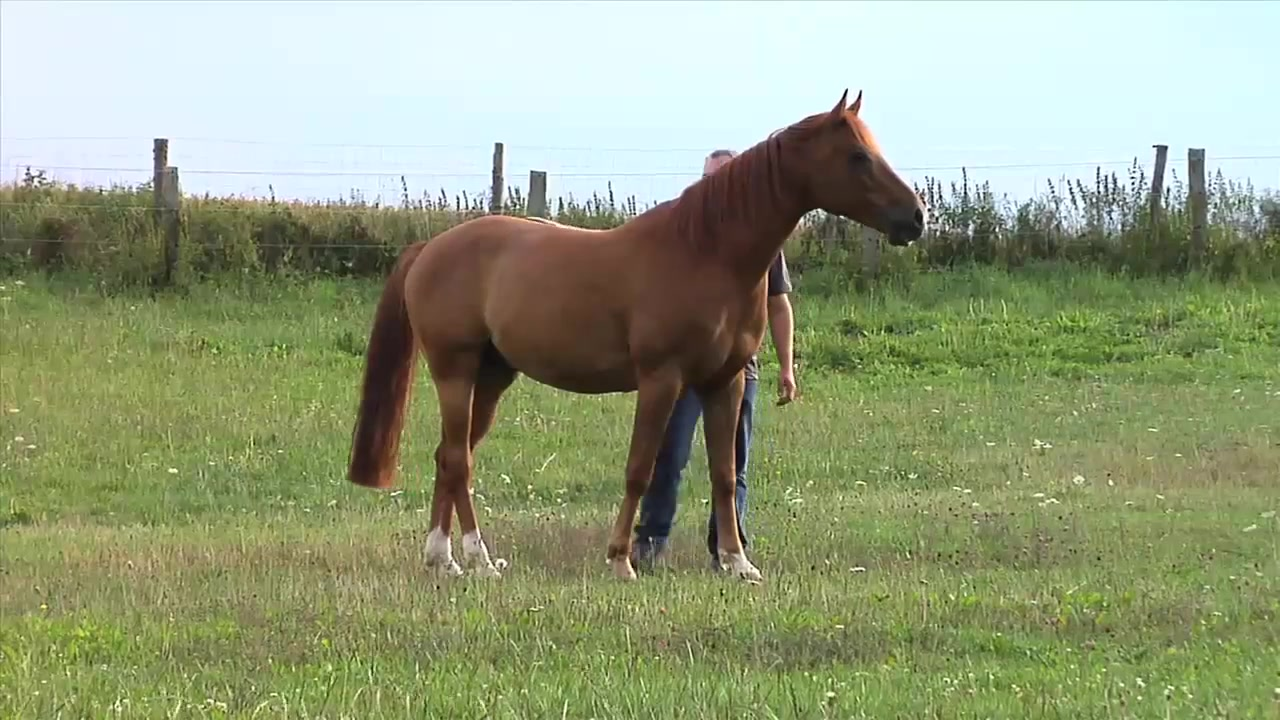horse: (347, 89, 930, 587)
